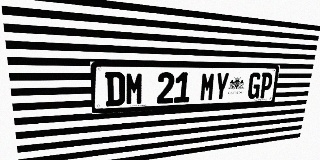1: (174, 72, 191, 103)
2: (157, 72, 175, 104)
D: (105, 72, 125, 106)
G: (247, 72, 262, 99)
M: (125, 72, 144, 105), (199, 72, 216, 102)
P: (259, 72, 273, 98)
Y: (214, 72, 230, 101)
